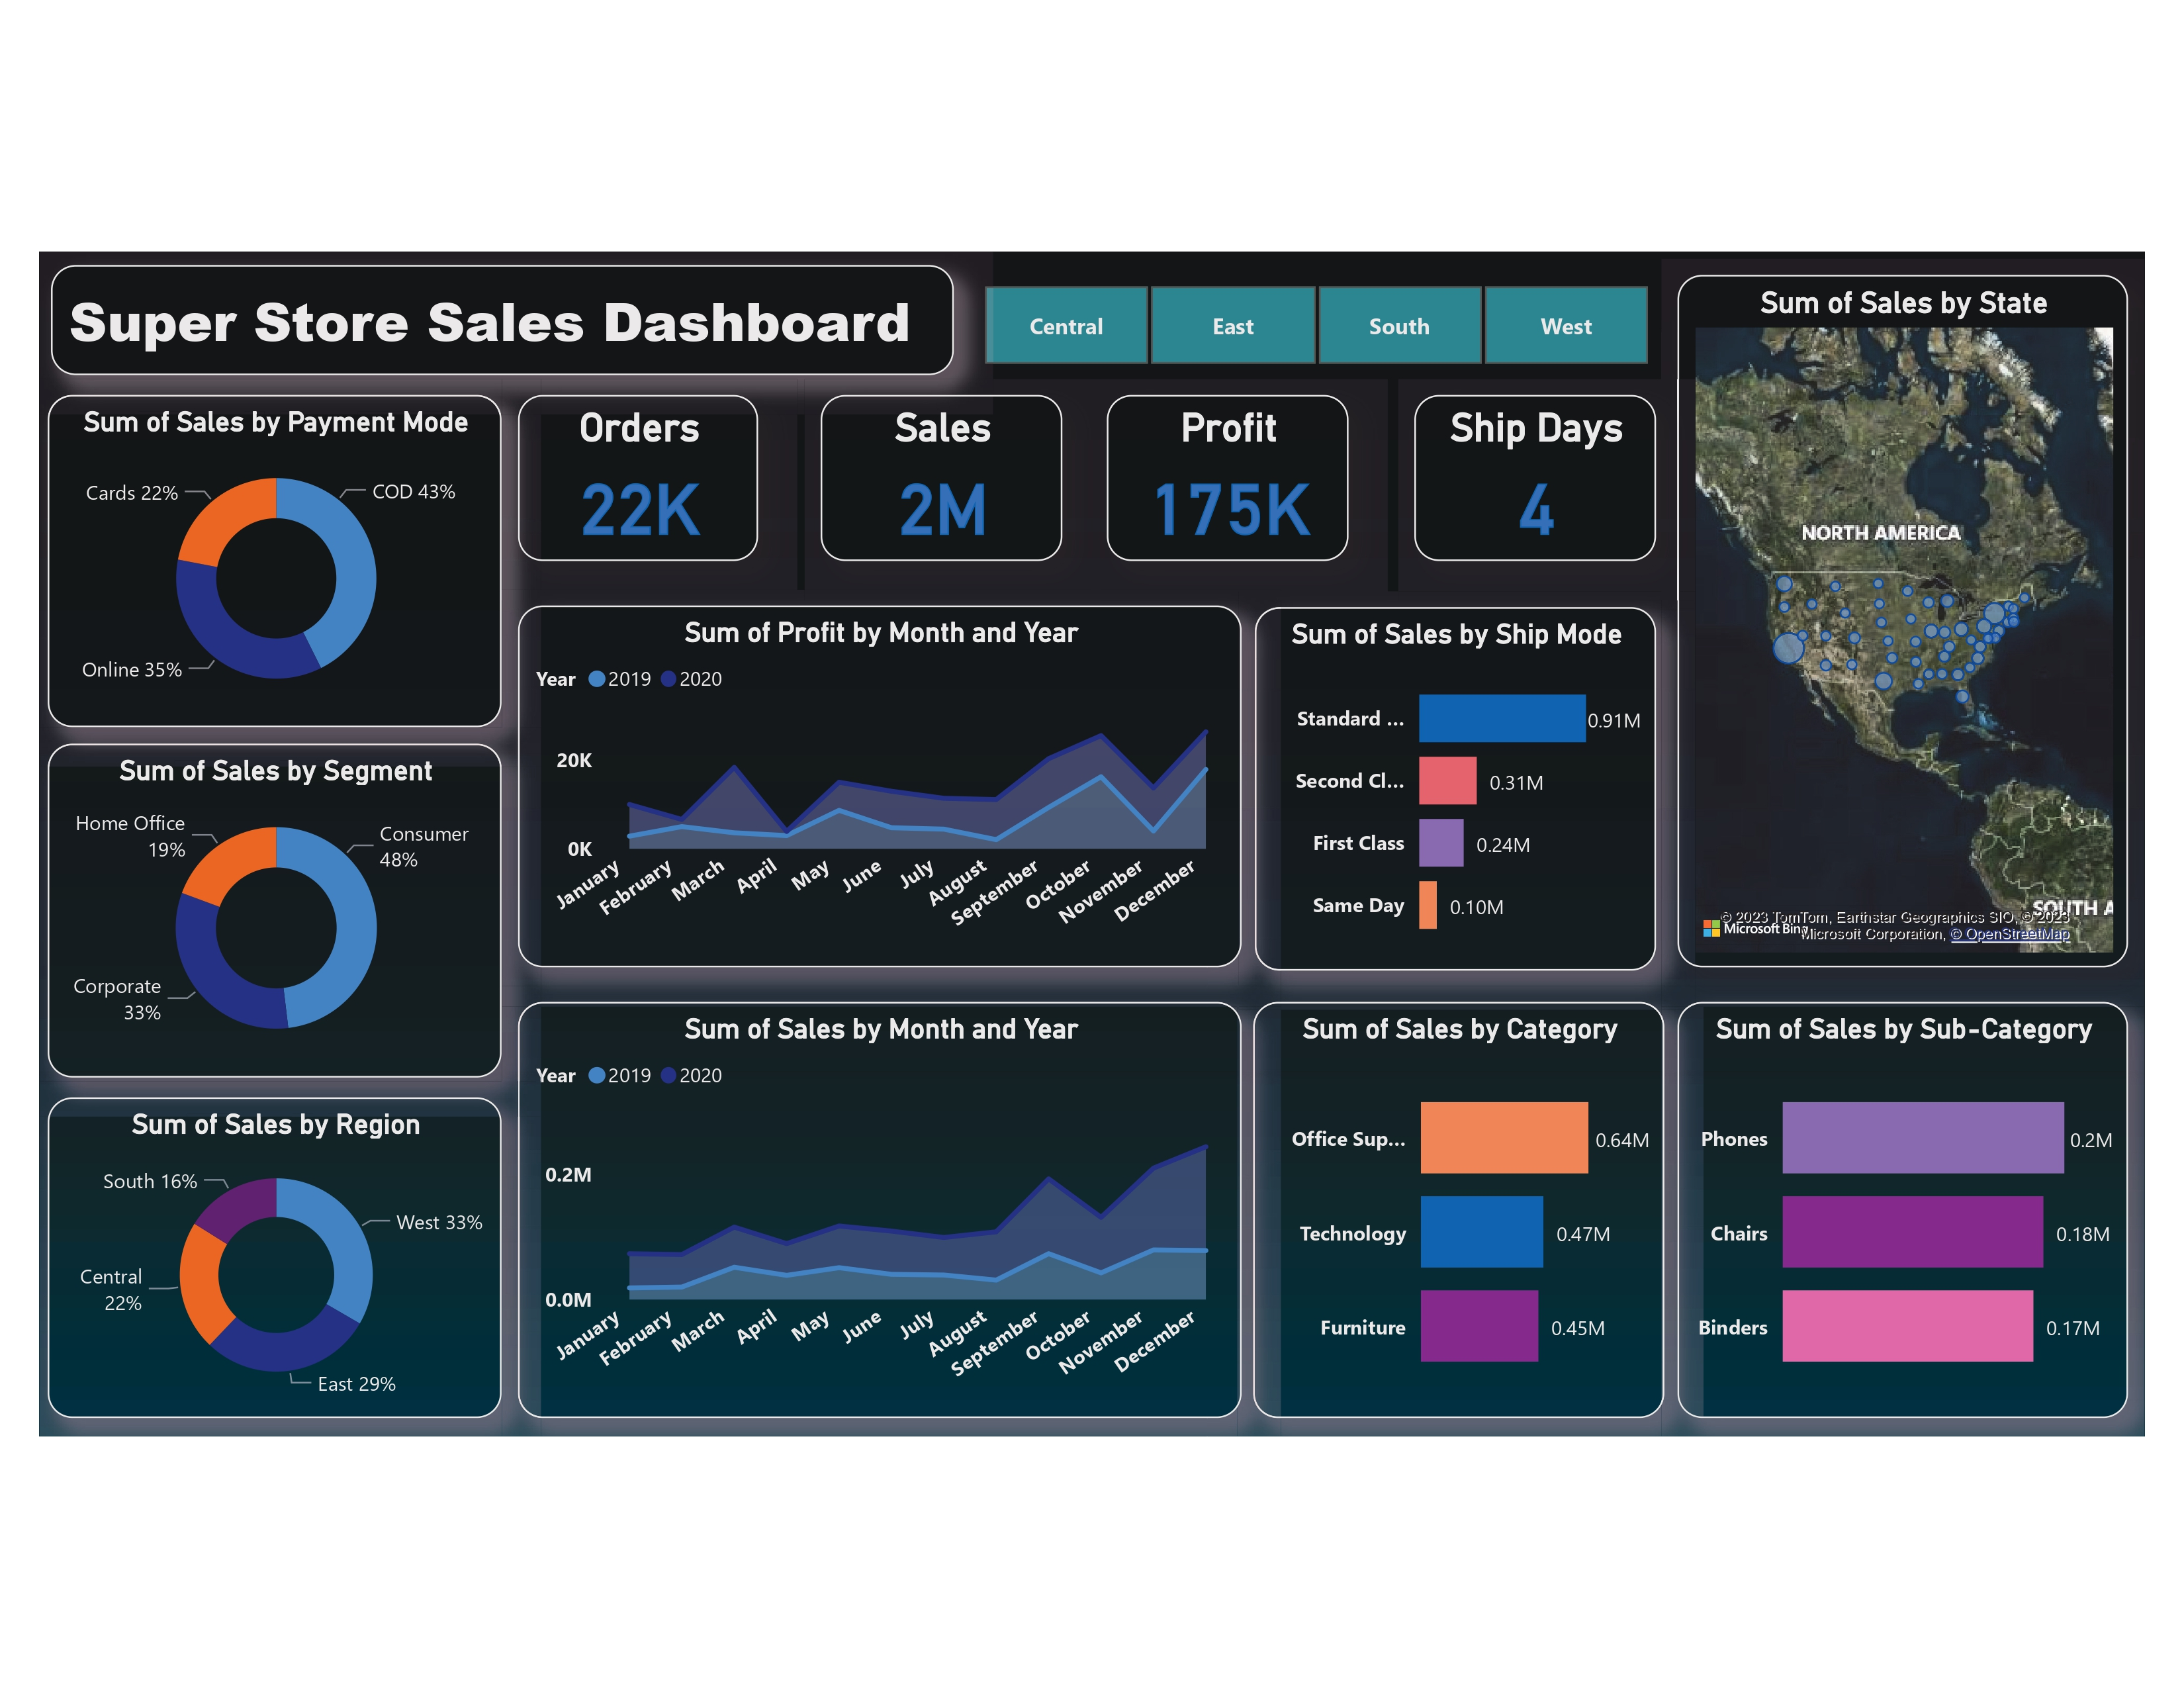

Layout of this report page (visuals, bound fields, positions):
{"tool":"powerbi","page":{"name":"Page 1","canvas":[1280,720],"ordinal":0},"visuals":[{"type":"clusteredBarChart","fields":{"Category":["SuperStore_Sales_Dataset.Category"],"Y":["Sum(SuperStore_Sales_Dataset.Sales)"]},"box":[738.1,455.9,249.6,253.3],"z":0},{"type":"clusteredBarChart","fields":{"Y":["Sum(SuperStore_Sales_Dataset.Sales)"],"Category":["SuperStore_Sales_Dataset.Sub-Category"]},"box":[996.2,455.9,273.8,253.3],"z":1000},{"type":"clusteredBarChart","fields":{"Y":["Sum(SuperStore_Sales_Dataset.Sales)"],"Category":["SuperStore_Sales_Dataset.Ship Mode"]},"box":[739.3,215.9,243.6,220.7],"z":2000},{"type":"stackedAreaChart","fields":{"Y":["Sum(SuperStore_Sales_Dataset.Sales)"],"Series":["SuperStore_Sales_Dataset.Order Date.Variation.Date Hierarchy.Year"],"Category":["SuperStore_Sales_Dataset.Order Date.Variation.Date Hierarchy.Month"]},"box":[290.7,455.9,440.2,253.3],"z":3000},{"type":"map","fields":{"Category":["SuperStore_Sales_Dataset.State"],"Size":["Sum(SuperStore_Sales_Dataset.Sales)"]},"box":[996.2,14.5,273.8,420.9],"z":4000},{"type":"donutChart","fields":{"Category":["SuperStore_Sales_Dataset.Segment"],"Y":["Sum(SuperStore_Sales_Dataset.Sales)"]},"box":[4.8,299.1,276.2,202.6],"z":5000},{"type":"donutChart","fields":{"Y":["Sum(SuperStore_Sales_Dataset.Sales)"],"Category":["SuperStore_Sales_Dataset.Payment Mode"]},"box":[4.8,86.8,276.2,202.6],"z":6000},{"type":"donutChart","fields":{"Y":["Sum(SuperStore_Sales_Dataset.Sales)"],"Category":["SuperStore_Sales_Dataset.Region"]},"box":[4.8,513.8,276.2,195.4],"z":7000},{"type":"slicer","fields":{"Values":["SuperStore_Sales_Dataset.Region"]},"box":[548.7,14.5,453.5,60.3],"z":8000},{"type":"textbox","box":[7.2,8.4,548.7,66.3],"z":9000},{"type":"card","title":"Profit","fields":{"Values":["Sum(SuperStore_Sales_Dataset.Profit)"]},"box":[648.8,86.8,147.1,101.3],"z":10000},{"type":"card","title":"Sales","fields":{"Values":["Sum(SuperStore_Sales_Dataset.Sales)"]},"box":[475.2,86.8,147.1,101.3],"z":11000},{"type":"card","title":"Orders","fields":{"Values":["Sum(SuperStore_Sales_Dataset.Quantity)"]},"box":[290.7,86.8,145.9,101.3],"z":12000},{"type":"card","title":"Ship Days","fields":{"Values":["Avg(SuperStore_Sales_Dataset.AvgDeliveryDay)"]},"box":[835.8,86.8,147.1,101.3],"z":13000},{"type":"stackedAreaChart","fields":{"Series":["SuperStore_Sales_Dataset.Order Date.Variation.Date Hierarchy.Year"],"Category":["SuperStore_Sales_Dataset.Order Date.Variation.Date Hierarchy.Month"],"Y":["Sum(SuperStore_Sales_Dataset.Profit)"]},"box":[290.7,214.7,440.2,220.7],"z":14000}]}

Visuals, with their boxes on the page's 1280x720 design canvas (x1, y1, x2, y2). These are canvas units, not pixel positions in the 2184x1688 screenshot, which may show the page scaled, cropped or inside an application window:
clusteredBarChart - SuperStore_Sales_Dataset.Category x Sum(SuperStore_Sales_Dataset.Sales): locate(738, 456, 988, 709)
clusteredBarChart - Sum(SuperStore_Sales_Dataset.Sales) x SuperStore_Sales_Dataset.Sub-Category: locate(996, 456, 1270, 709)
clusteredBarChart - Sum(SuperStore_Sales_Dataset.Sales) x SuperStore_Sales_Dataset.Ship Mode: locate(739, 216, 983, 437)
stackedAreaChart - Sum(SuperStore_Sales_Dataset.Sales) x SuperStore_Sales_Dataset.Order Date.Variation.Date Hierarchy.Year: locate(291, 456, 731, 709)
map - SuperStore_Sales_Dataset.State x Sum(SuperStore_Sales_Dataset.Sales): locate(996, 14, 1270, 435)
donutChart - SuperStore_Sales_Dataset.Segment x Sum(SuperStore_Sales_Dataset.Sales): locate(5, 299, 281, 502)
donutChart - Sum(SuperStore_Sales_Dataset.Sales) x SuperStore_Sales_Dataset.Payment Mode: locate(5, 87, 281, 289)
donutChart - Sum(SuperStore_Sales_Dataset.Sales) x SuperStore_Sales_Dataset.Region: locate(5, 514, 281, 709)
slicer - SuperStore_Sales_Dataset.Region: locate(549, 14, 1002, 75)
textbox: locate(7, 8, 556, 75)
"Profit" card: locate(649, 87, 796, 188)
"Sales" card: locate(475, 87, 622, 188)
"Orders" card: locate(291, 87, 437, 188)
"Ship Days" card: locate(836, 87, 983, 188)
stackedAreaChart - SuperStore_Sales_Dataset.Order Date.Variation.Date Hierarchy.Year x SuperStore_Sales_Dataset.Order Date.Variation.Date Hierarchy.Month: locate(291, 215, 731, 435)
